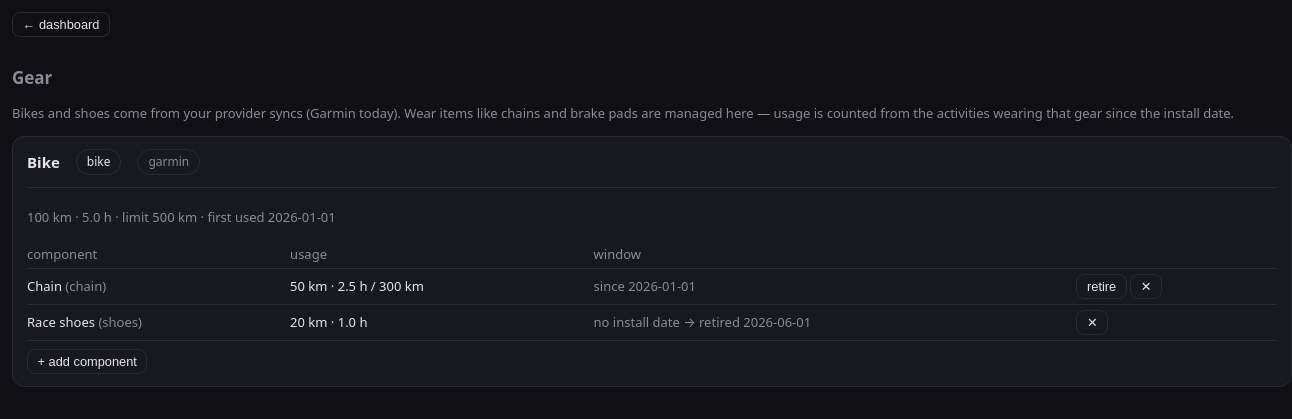
GearSection › adds a component with the selected kind and install date
Check: the text "Bike" is shown, box top-left (27, 151), bottom-right (60, 173)
Click the button "+ add component" at x=87, y=362, box top-left (27, 349), bottom-right (148, 374)
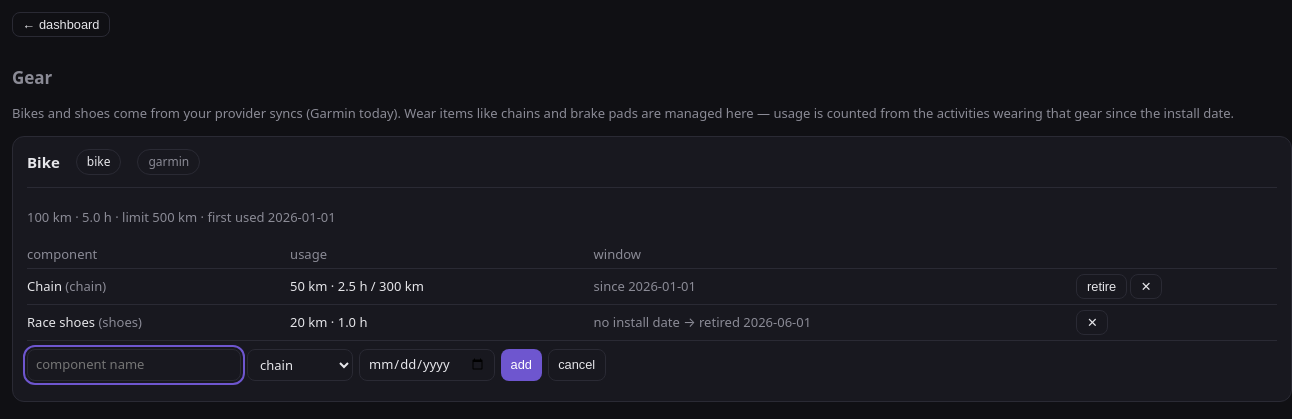
Type "  New chain  " into the field with placeholder "component name" at x=134, y=365, box top-left (27, 349), bottom-right (241, 380)
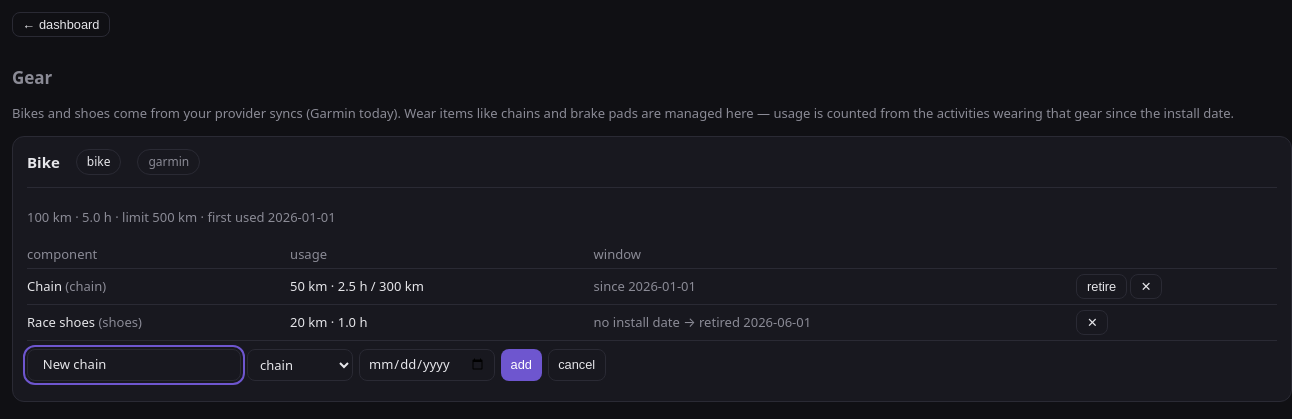
Select "cassette" in the dropdown at x=300, y=365, box top-left (247, 349), bottom-right (353, 380)
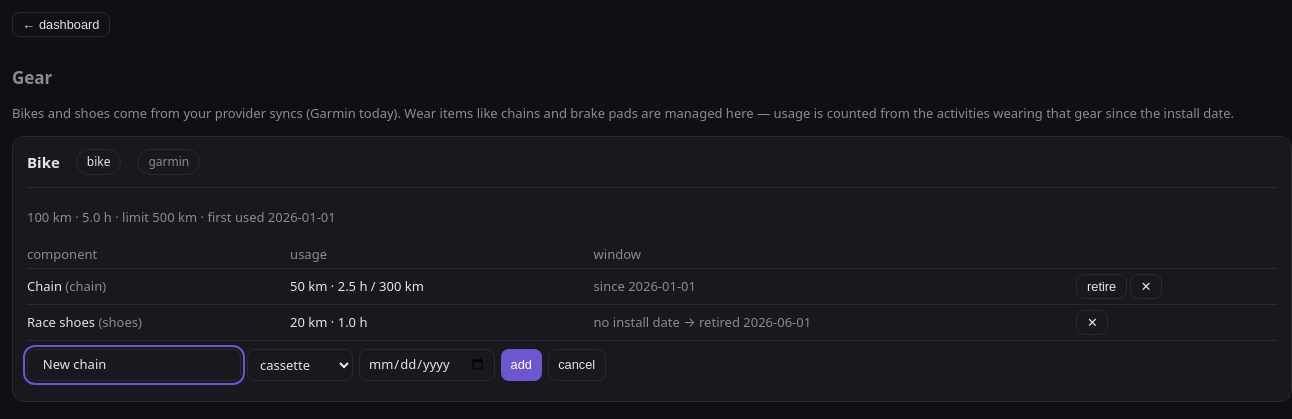
Type "2026-02-01" into the date field titled "install date — usage counts from here" at x=427, y=365, box top-left (359, 349), bottom-right (495, 380)
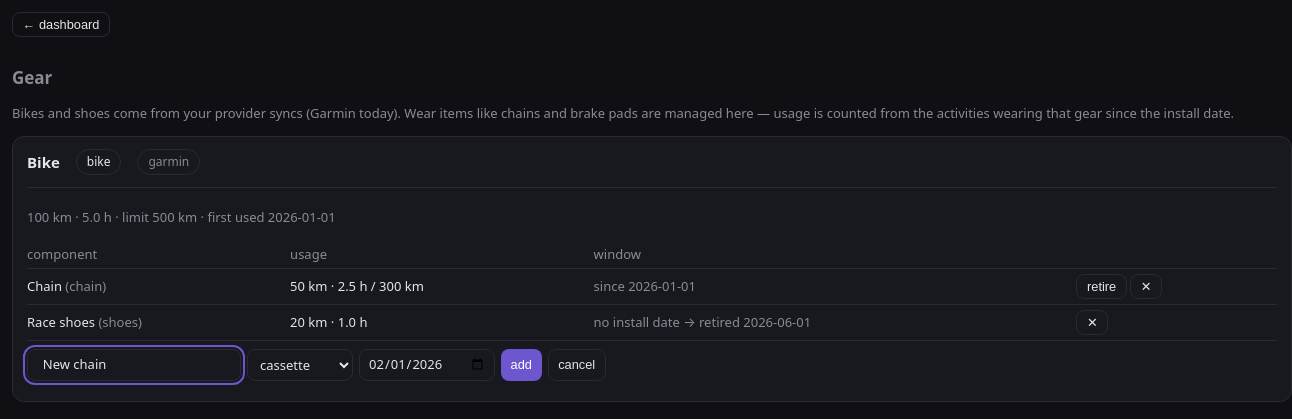
Click the button "add" at x=521, y=365, box top-left (501, 349), bottom-right (542, 380)
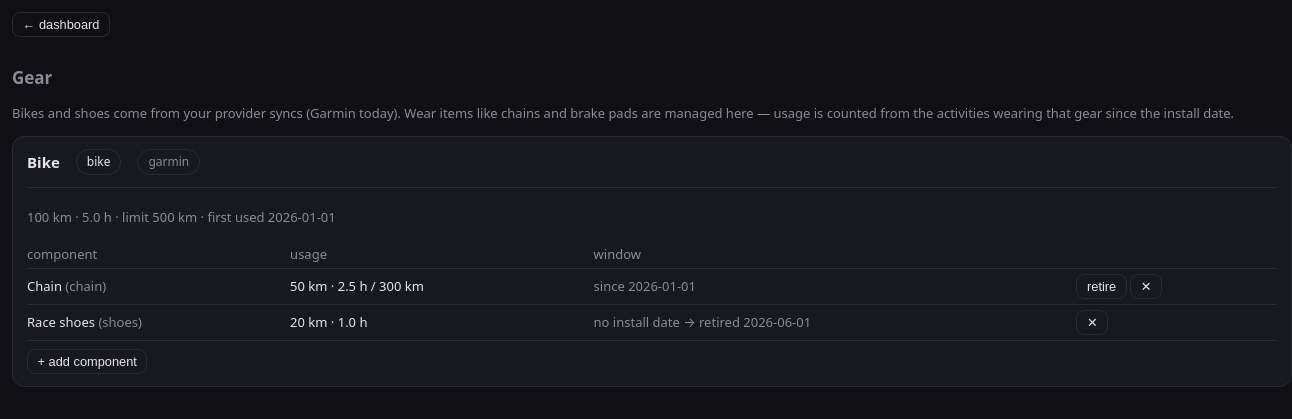
Check: the button "+ add component" is shown, box top-left (27, 349), bottom-right (148, 374)
